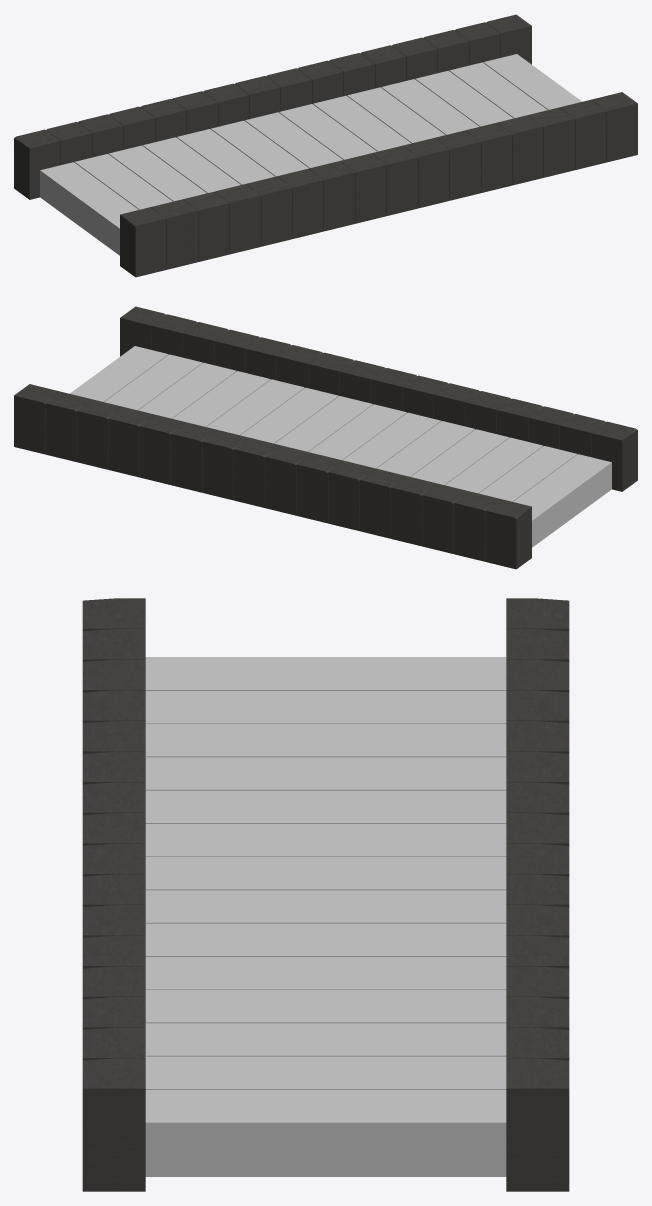
File: bridge.fbx
3 views of the same model, one above another, from view 1: azimuth 30°, elevation 25°; view 2: azimuth 150°, elevation 25°; view 3: azimuth 270°, elevation 25° (orthographic). The views are drawn at different scales.
Visible parts, largest first — view 1: Plane.004; view 2: Plane.004; view 3: Plane.004.
Part boxes in pixels (box(x1,y1,x2,y2)): Plane.004: box(14, 14, 637, 277); Plane.004: box(14, 306, 637, 569); Plane.004: box(82, 598, 569, 1191).
Bounding box in the file's own units: 1860 × 182 × 780.
